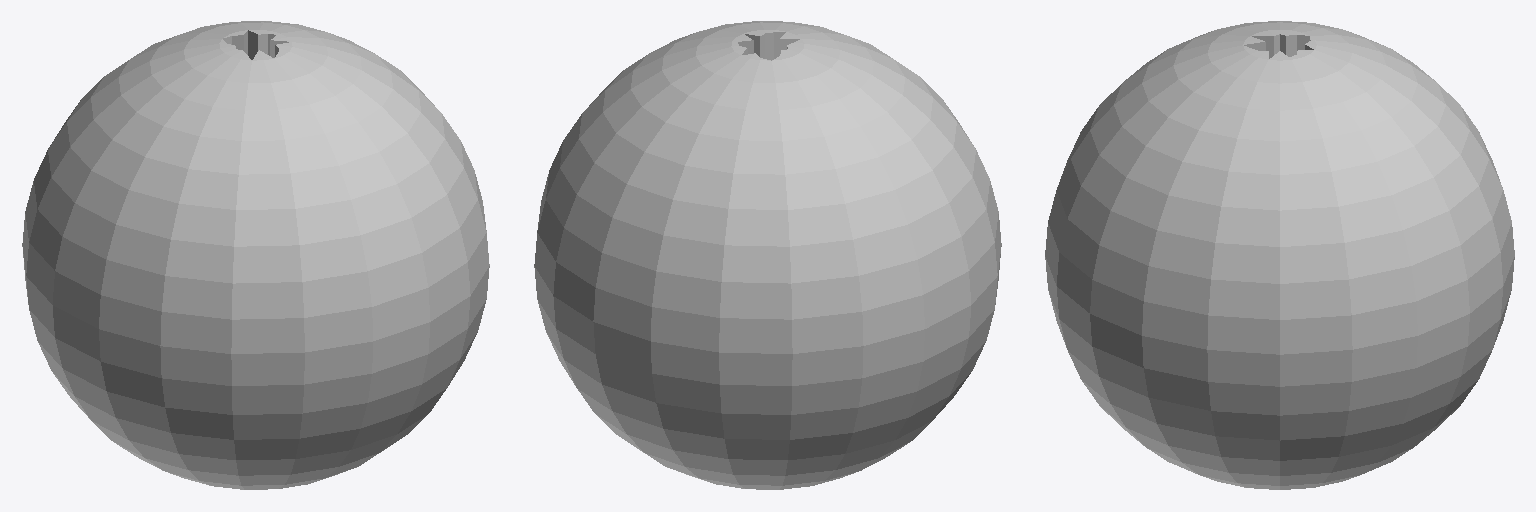
The model's file is planetSplat.obj.
3 views of the same model, side by side, from view 1: azimuth 30°, elevation 25°; view 2: azimuth 150°, elevation 25°; view 3: azimuth 270°, elevation 25° (orthographic).
Parts seen in each view (by area): view 1: Planet, Hole; view 2: Planet, Hole; view 3: Planet, Hole.
Boxes of the visible parts, <box> form: Planet: <box>22,21,489,489</box>; Hole: <box>223,30,288,59</box>; Planet: <box>534,21,1001,489</box>; Hole: <box>738,32,799,60</box>; Planet: <box>1045,21,1514,489</box>; Hole: <box>1244,34,1313,58</box>.
Bounding box in the file's own units: 787 × 785 × 787.